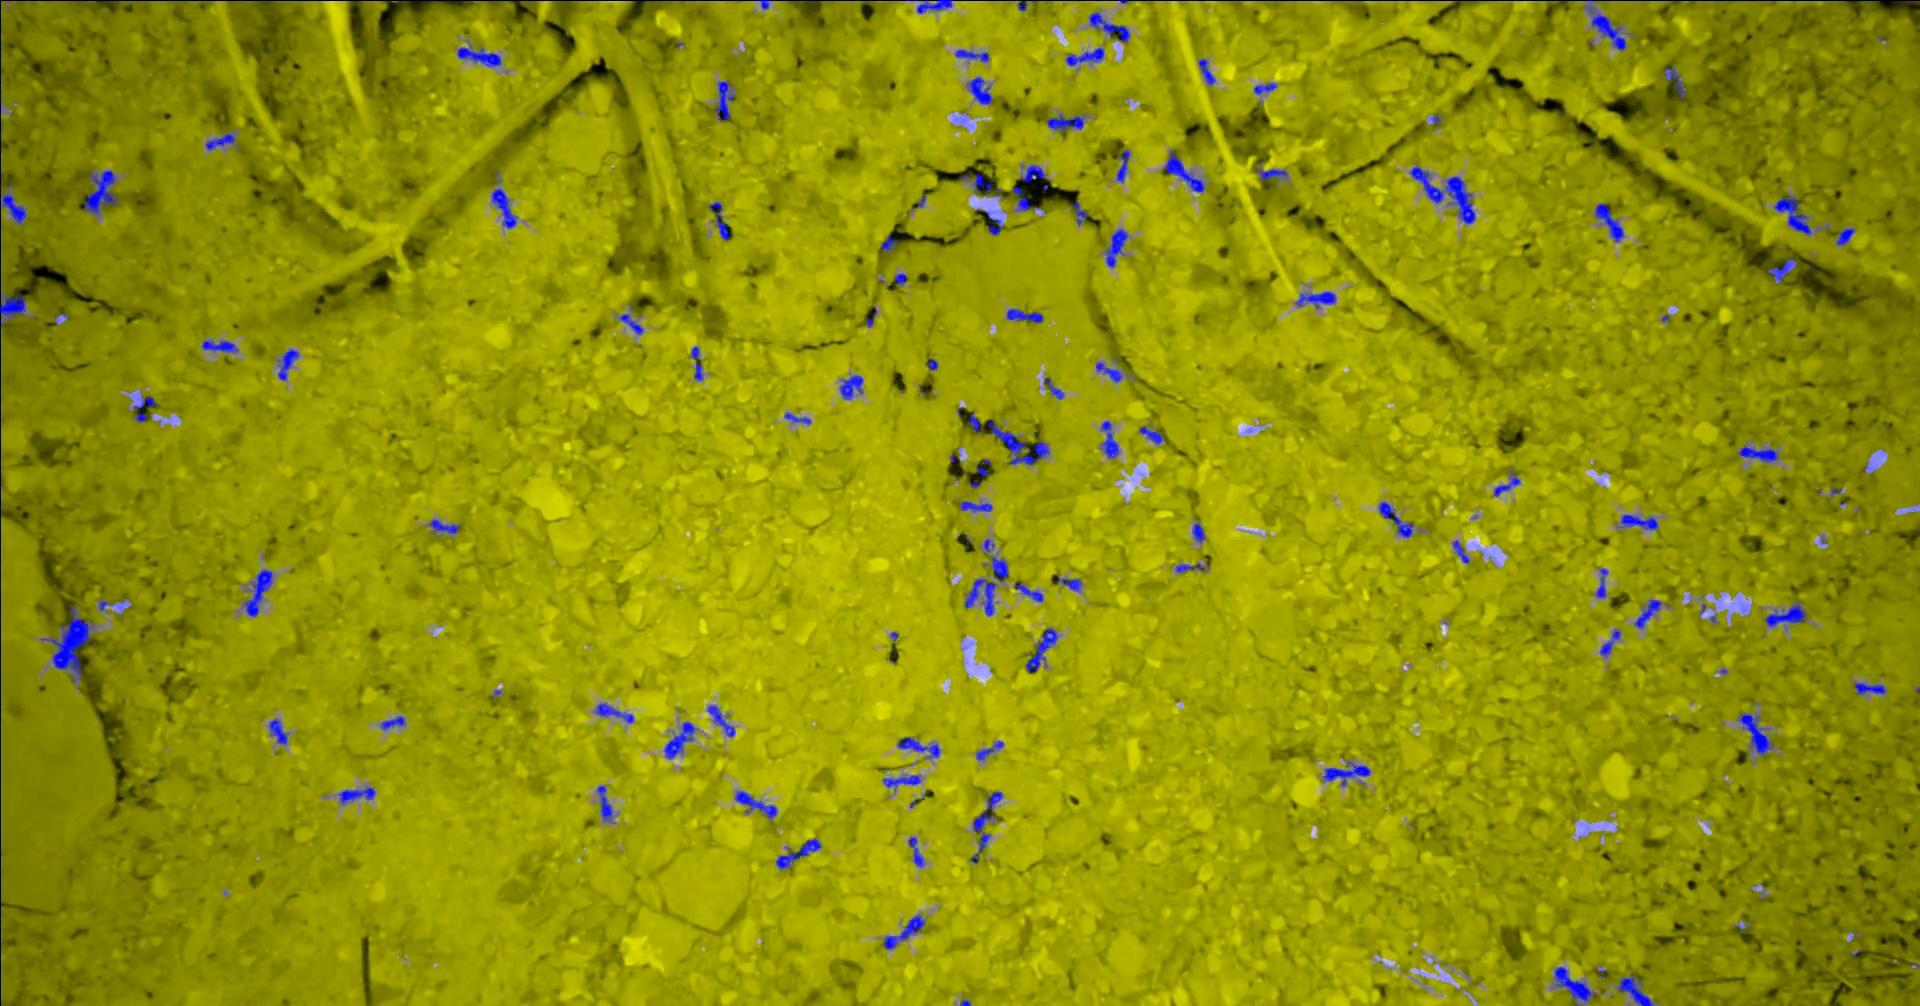ant: (985, 419, 1049, 465), (969, 791, 1002, 862), (1585, 5, 1625, 50), (1163, 150, 1204, 191), (1553, 967, 1595, 1005), (83, 169, 117, 213), (1737, 713, 1771, 756), (883, 915, 924, 949), (1025, 627, 1058, 671), (1773, 196, 1810, 234), (0, 170, 25, 224), (775, 838, 820, 868), (243, 569, 270, 616), (1378, 500, 1413, 537), (1088, 11, 1129, 42), (964, 578, 996, 615), (1322, 761, 1370, 785), (664, 721, 695, 758), (1617, 974, 1653, 1005), (734, 790, 776, 817), (1594, 203, 1623, 241), (1764, 602, 1806, 627), (491, 187, 516, 227), (456, 44, 500, 66), (897, 735, 938, 757), (960, 173, 999, 196), (1105, 227, 1128, 267), (712, 80, 734, 119), (0, 293, 25, 326), (709, 201, 730, 239), (707, 705, 734, 735), (596, 702, 632, 723), (1633, 600, 1660, 627), (1737, 445, 1778, 462), (966, 76, 992, 104), (1046, 114, 1083, 133), (277, 348, 298, 380), (1065, 47, 1103, 65), (1011, 185, 1039, 210), (1768, 258, 1796, 282), (1663, 66, 1684, 99), (1100, 420, 1117, 457), (1295, 291, 1335, 307), (883, 774, 919, 790), (338, 786, 375, 803), (596, 785, 612, 821), (839, 373, 862, 399), (1493, 473, 1519, 495), (1619, 514, 1657, 530), (1599, 629, 1620, 655), (1006, 307, 1043, 323), (1013, 582, 1043, 601), (907, 836, 924, 866), (1095, 362, 1121, 381), (977, 741, 1003, 760), (983, 210, 1003, 234), (618, 314, 643, 334), (133, 396, 154, 420), (916, 0, 954, 13), (1138, 426, 1163, 445), (990, 555, 1008, 582), (268, 718, 286, 744), (1115, 149, 1129, 182), (1197, 58, 1215, 84), (204, 133, 234, 149), (1018, 165, 1045, 182), (1043, 377, 1063, 399), (690, 345, 702, 380), (1451, 539, 1469, 563), (1257, 166, 1288, 180), (428, 520, 458, 533), (201, 339, 237, 351), (954, 50, 988, 61), (1070, 201, 1087, 224), (1595, 568, 1608, 597), (1057, 575, 1081, 591), (1853, 682, 1884, 694), (783, 412, 810, 424), (380, 715, 404, 729), (959, 500, 990, 511), (1835, 227, 1853, 245), (1175, 563, 1209, 572), (977, 459, 990, 480), (968, 412, 980, 433), (1253, 83, 1276, 94), (880, 235, 897, 250), (1192, 523, 1205, 542), (983, 539, 994, 553), (894, 273, 905, 285), (69, 0, 133, 1)
